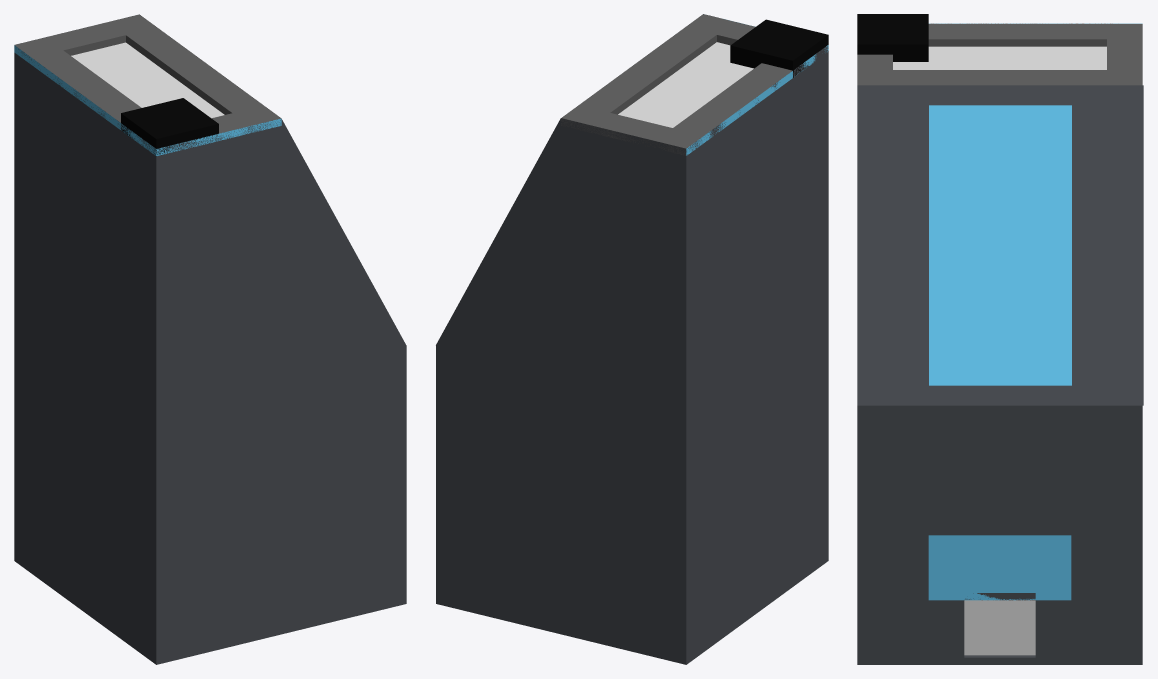
File: TowerImp01Stone.fbx
3 views of the same model, side by side, from view 1: azimuth 30°, elevation 25°; view 2: azimuth 150°, elevation 25°; view 3: azimuth 270°, elevation 25° (orthographic).
Visible parts, largest first — view 1: Cube; view 2: Cube; view 3: Cube.
Part boxes in pixels (x1=…): Cube: x1=14, y1=14, x2=406, y2=664; Cube: x1=436, y1=14, x2=828, y2=664; Cube: x1=857, y1=14, x2=1143, y2=664.
Bounding box in the file's own units: 102 × 204 × 100.
